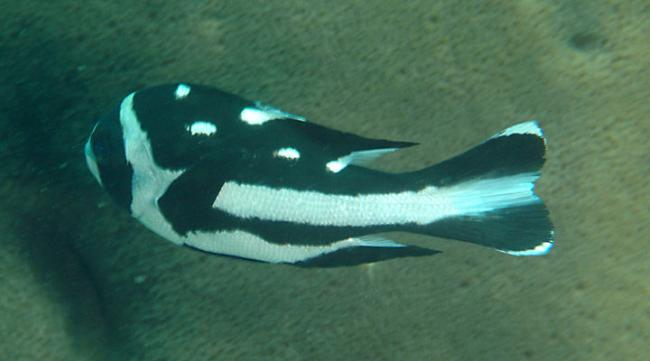fish: (82, 83, 558, 268)
